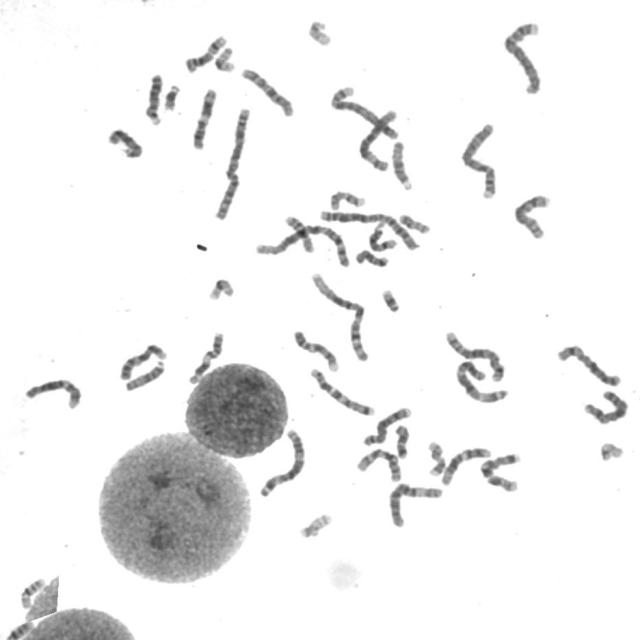A1: (307, 269, 371, 363), (252, 220, 354, 269)
A2: (315, 206, 422, 252), (211, 104, 252, 222)
A3: (255, 424, 308, 499), (452, 355, 511, 405)
B4: (457, 118, 500, 200), (500, 17, 545, 95)
B5: (328, 85, 400, 140), (442, 327, 507, 385)
C10: (237, 63, 297, 118), (353, 444, 404, 484)
C11: (185, 328, 226, 386), (189, 84, 219, 151)
C12: (437, 443, 493, 486), (21, 374, 84, 410)
C6: (385, 479, 445, 529), (355, 106, 400, 172)
C7: (306, 364, 377, 417), (476, 449, 524, 494)
C8: (359, 404, 414, 447), (511, 190, 553, 240)
C9: (290, 326, 341, 373), (116, 340, 169, 381)
D13: (104, 124, 144, 160), (142, 69, 166, 127)
D14: (184, 34, 226, 75), (366, 220, 399, 252)
D15: (121, 358, 168, 392), (388, 137, 416, 192)
E16: (280, 211, 316, 254), (16, 574, 48, 610)
E17: (424, 437, 448, 478), (326, 187, 367, 211)
E18: (352, 246, 391, 268), (392, 421, 412, 459)
F19: (205, 274, 237, 302), (212, 43, 238, 73)
F20: (395, 209, 432, 235), (298, 513, 335, 538)
G21: (378, 286, 402, 314), (161, 81, 182, 111)
G22: (304, 18, 334, 48), (600, 442, 625, 463)
X: (554, 341, 623, 388), (580, 386, 631, 426)
